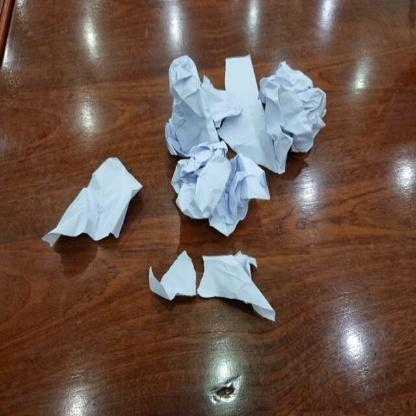trash: (43, 157, 144, 243), (172, 141, 270, 228), (166, 54, 244, 149), (260, 61, 326, 173), (223, 56, 282, 170), (199, 254, 274, 319), (149, 250, 197, 298)
